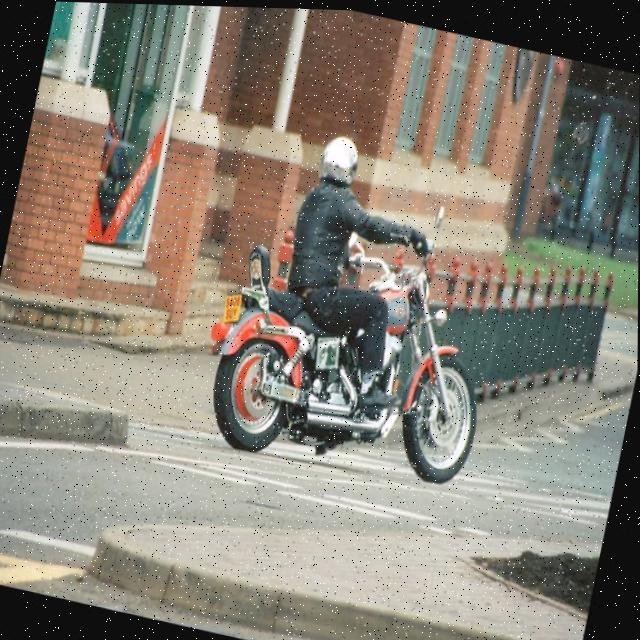motorcycle: (185, 162, 521, 503)
